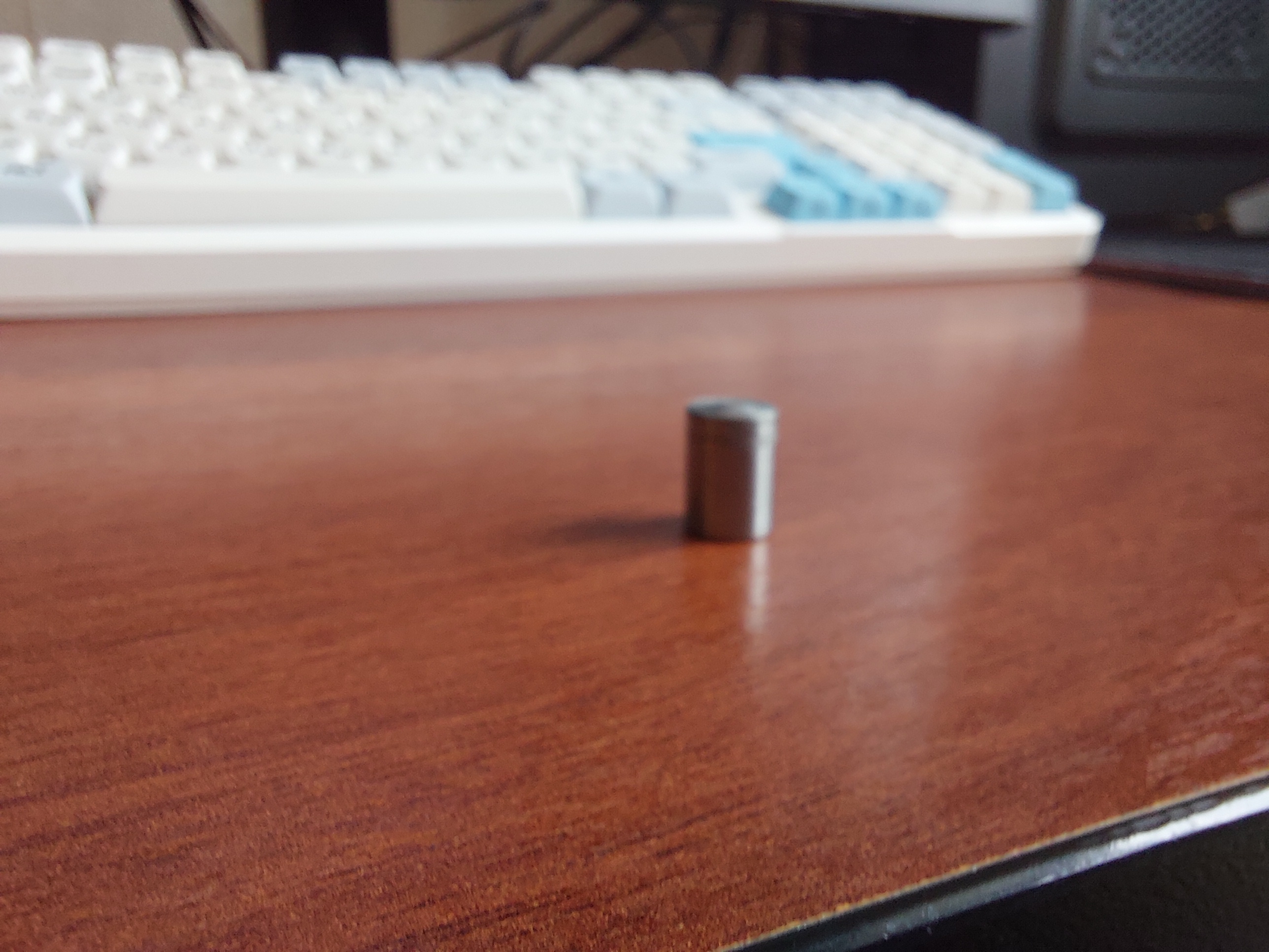tablet: (686, 398, 777, 544)
